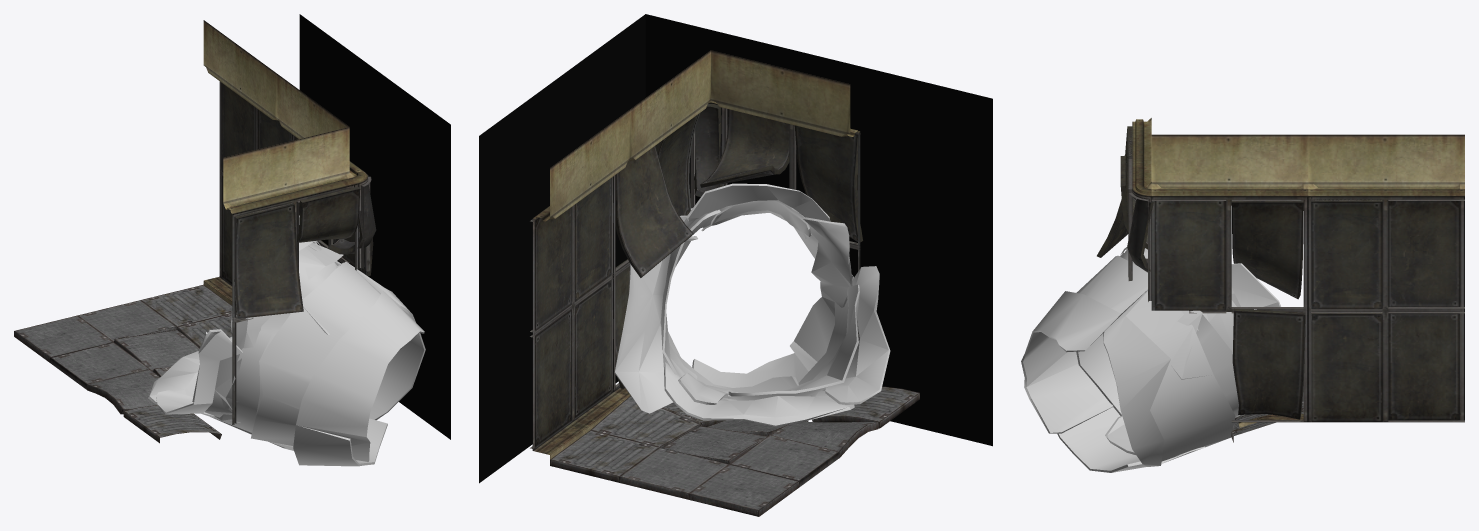
Rendered from 01_02_comm_room_tunnel_exit.dae.
The picture shows the model from 3 angles, left to right: view 1: azimuth 30°, elevation 25°; view 2: azimuth 150°, elevation 25°; view 3: azimuth 270°, elevation 25°; orthographic projection. The views are drawn at different scales.
Parts seen in each view (by area): view 1: walls__2_, tunnel__2_, floor__2_, floor_edge__2_; view 2: walls__2_, tunnel__2_, floor__2_, floor_edge__2_; view 3: walls__2_, tunnel__2_.
Boxes of the visible parts, x1,y1,x2,y2 form: walls__2_: (203,14,450,439); tunnel__2_: (148,215,425,466); floor__2_: (14,300,199,414); floor_edge__2_: (123,284,232,443); walls__2_: (479,14,992,483); tunnel__2_: (614,183,890,426); floor__2_: (619,420,878,516); floor_edge__2_: (550,386,919,482); walls__2_: (1097,118,1464,427); tunnel__2_: (1021,247,1303,472).
Bounding box in the file's own units: 4.98 × 4.8 × 5.67.
